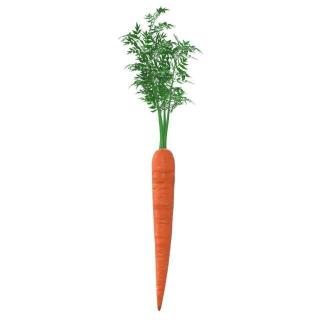carrot: (147, 142, 177, 312)
